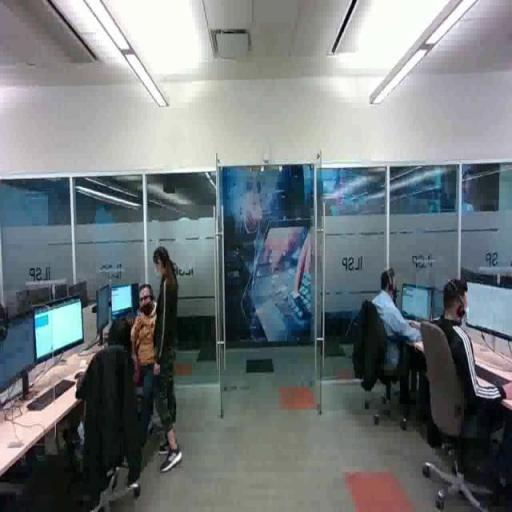person: (435, 281, 512, 496), (77, 319, 142, 509), (435, 280, 512, 438), (152, 253, 183, 475), (154, 247, 183, 473), (373, 270, 422, 368), (132, 285, 157, 446), (109, 319, 135, 376)
